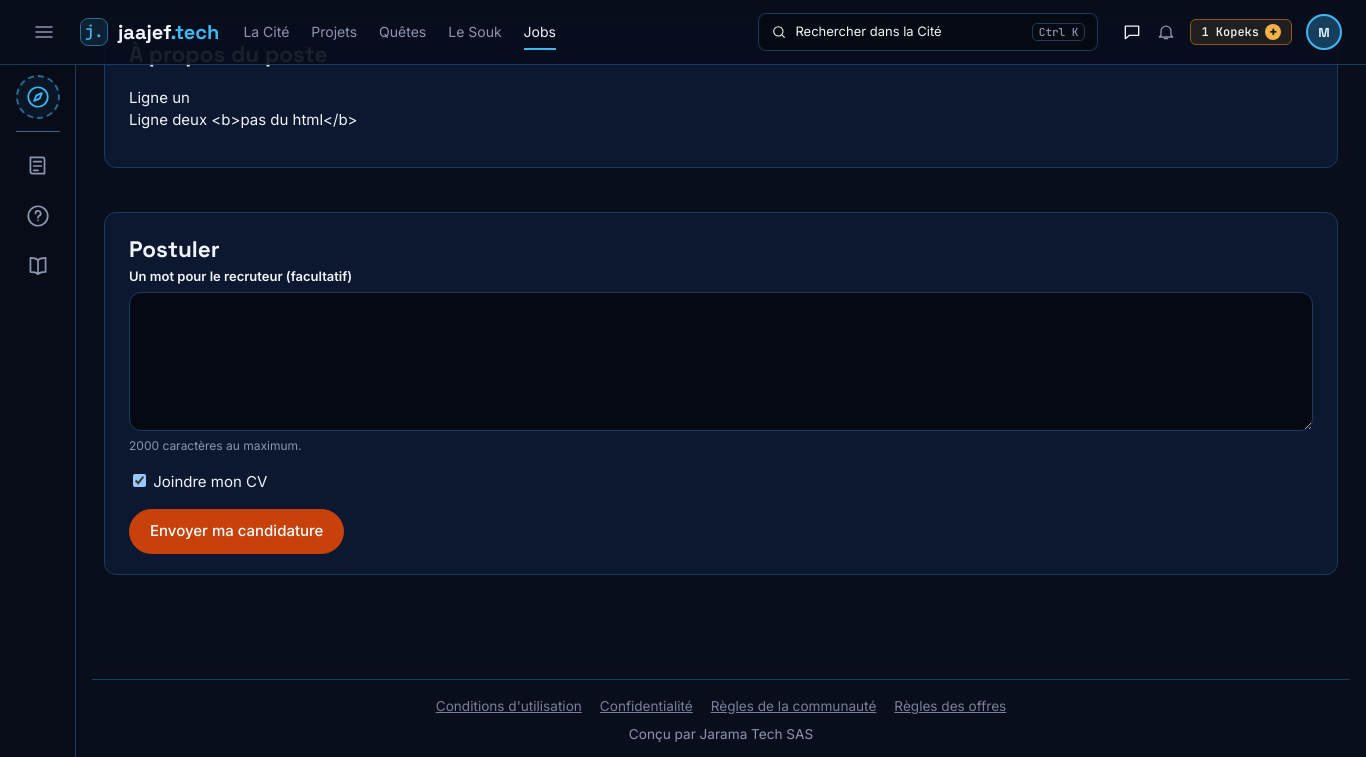
it: Job detail › shows "already applied" in French and keeps the form
The image size is (1366, 757).
(page scrolled)
Click the button "Envoyer ma candidature" at (237, 531), box [129,509,344,554]
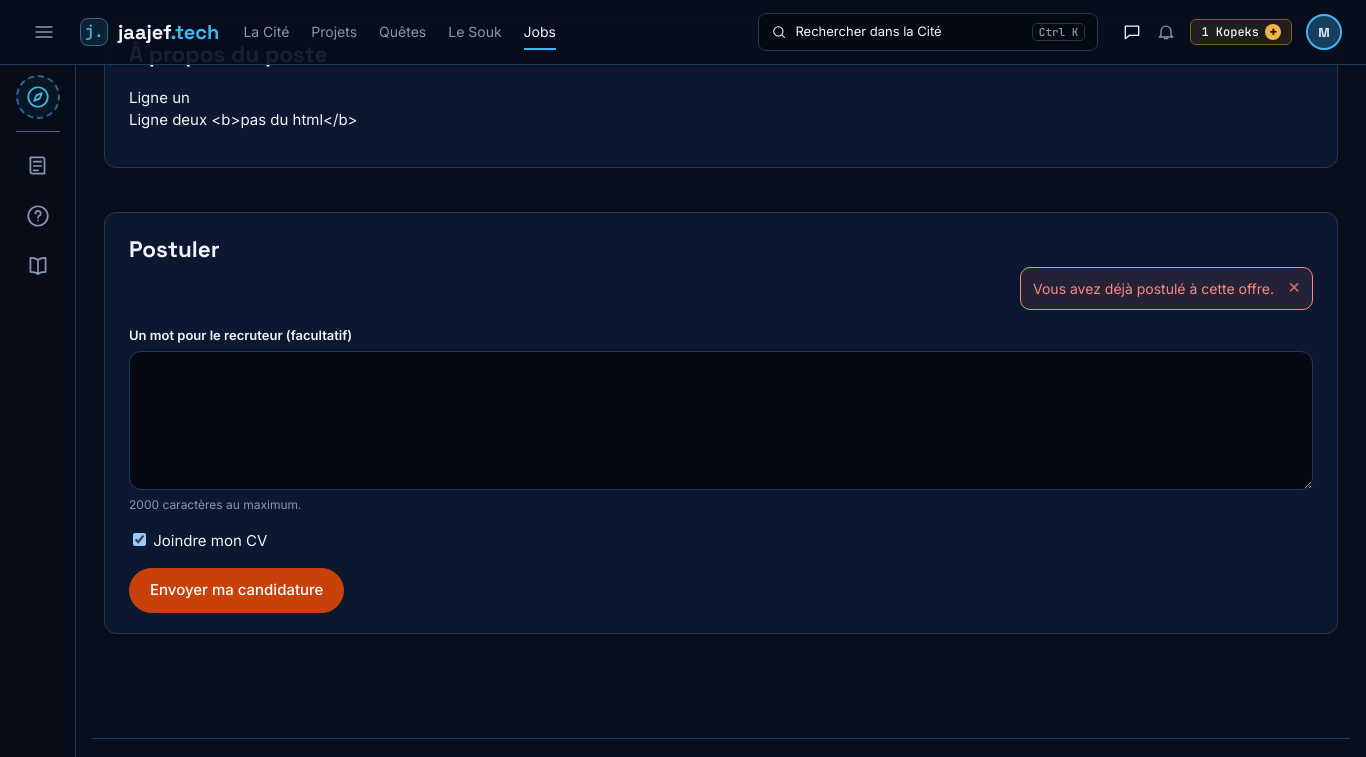
Check: the button "Envoyer ma candidature" is enabled, box [129,568,344,612]
Check: the message shows "déjà postulé", box [1033,280,1274,296]
